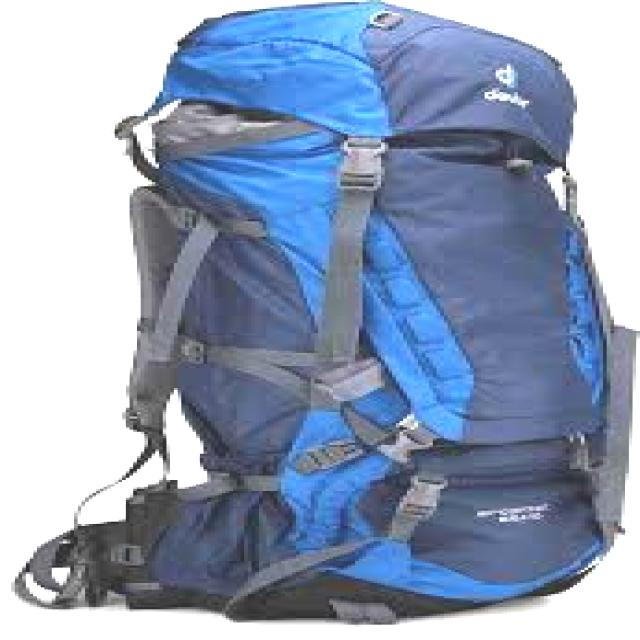backpack: (12, 1, 637, 623)
